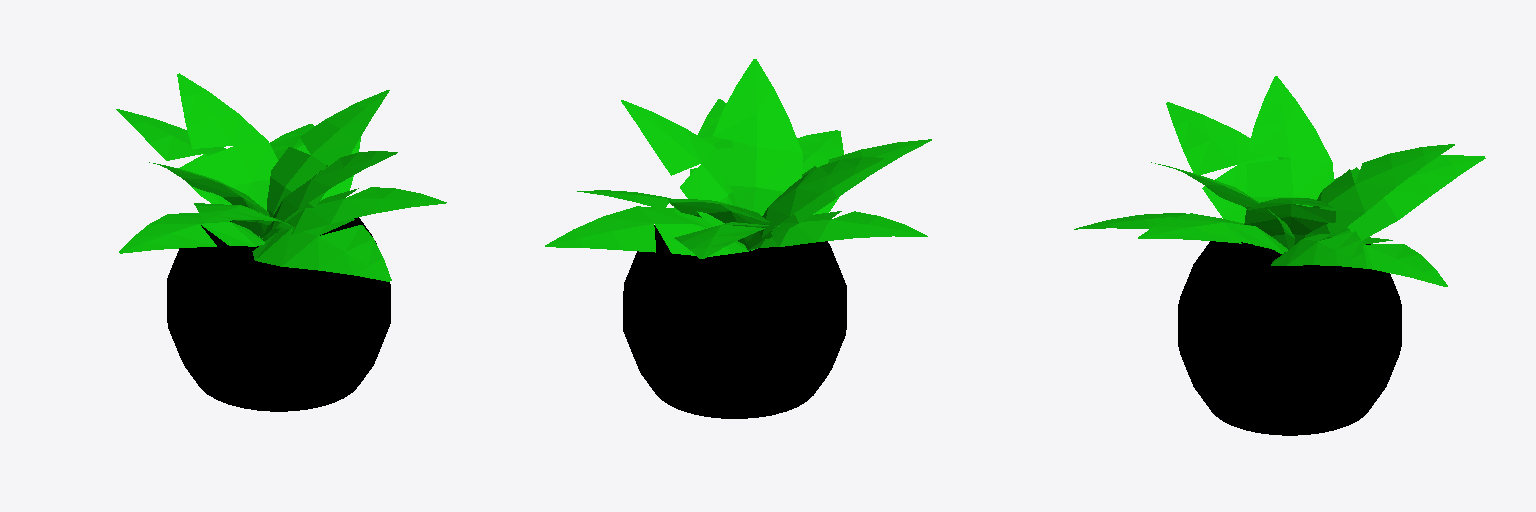
The model's file is Stage_Planter.obj.
The picture shows the model from 3 angles: view 1: azimuth 30°, elevation 25°; view 2: azimuth 150°, elevation 25°; view 3: azimuth 270°, elevation 25°; orthographic projection.
Visible parts, largest first — view 1: Pot_large_wide_Cylinder.003; view 2: Pot_large_wide_Cylinder.003; view 3: Pot_large_wide_Cylinder.003.
Boxes of the visible parts, box(x1,y1,x2,y2) form: Pot_large_wide_Cylinder.003: box(116, 73, 446, 411); Pot_large_wide_Cylinder.003: box(545, 59, 931, 418); Pot_large_wide_Cylinder.003: box(1074, 76, 1485, 435).
Bounding box in the file's own units: 79.94 × 67.53 × 96.04.